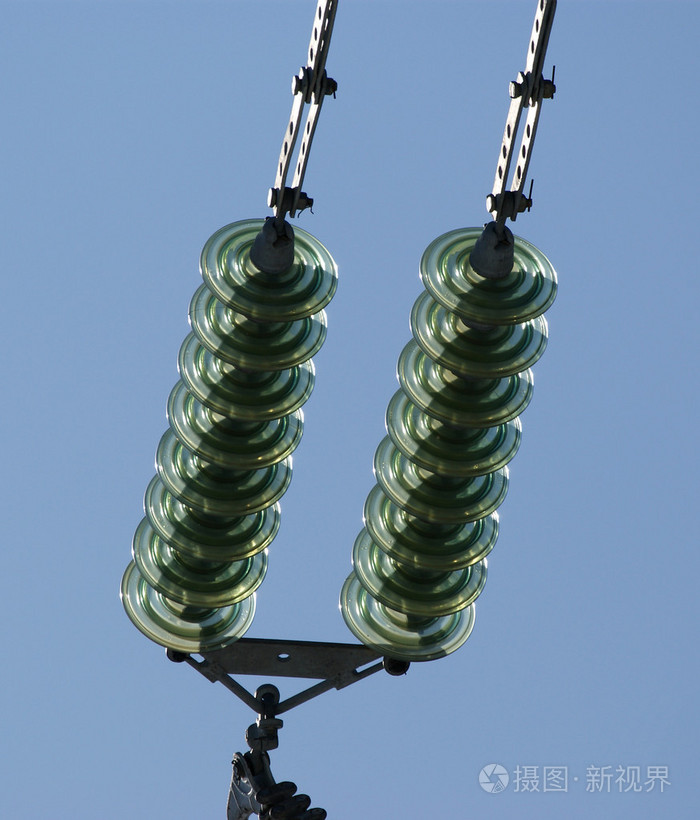insulator: (126, 214, 337, 649), (343, 227, 555, 653)
